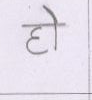o_matra: (46, 4, 62, 51)
